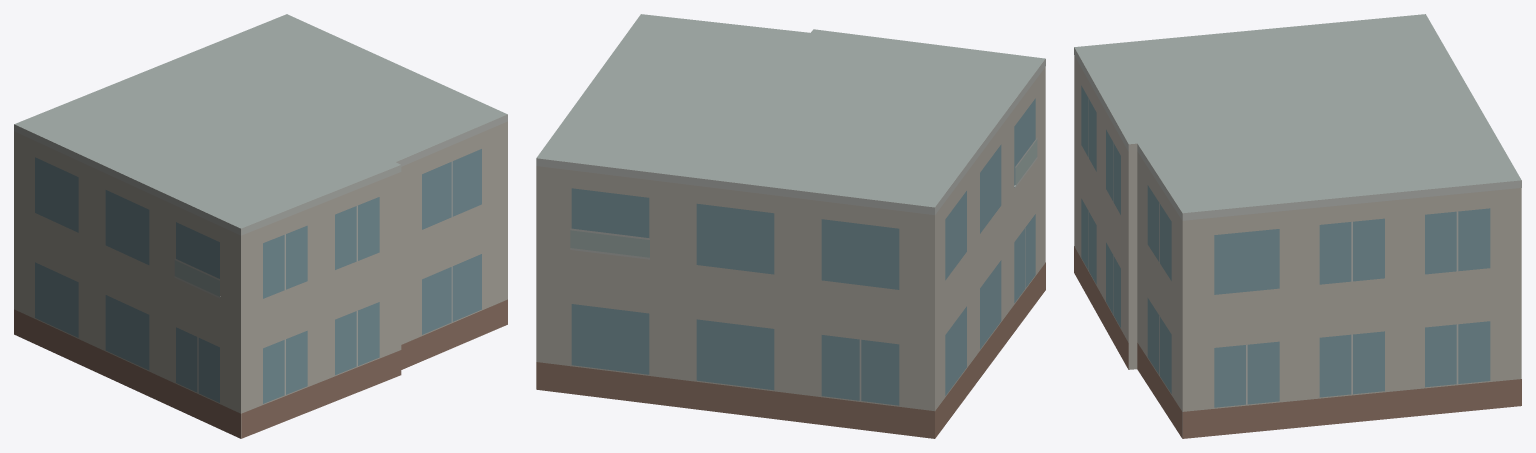
Rendered from survey-upis-32547379.glb.
3 renders of one model, left to right at view 1: azimuth 30°, elevation 25°; view 2: azimuth 150°, elevation 25°; view 3: azimuth 270°, elevation 25°, orthographic. The views are drawn at different scales.
Visible parts, largest first — view 1: survey-upis-32547379.tmp; view 2: survey-upis-32547379.tmp; view 3: survey-upis-32547379.tmp.
Part boxes in pixels (x1,y1,x2,y2): survey-upis-32547379.tmp: (14,14,507,438); survey-upis-32547379.tmp: (536,14,1045,438); survey-upis-32547379.tmp: (1074,14,1521,438).
Size of the model in its own units: 13.84 by 7.3 by 13.14.
